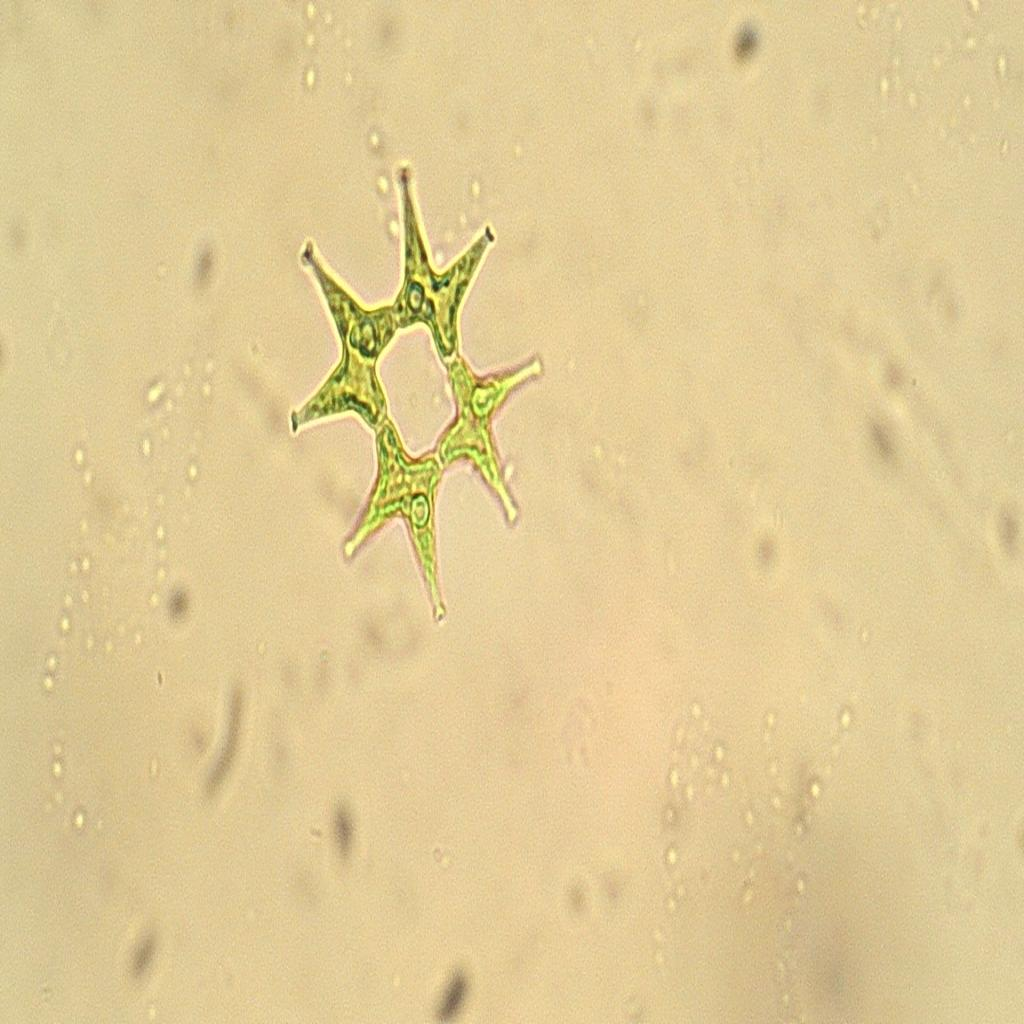Pediastrum_CO: (278, 115, 557, 627)
